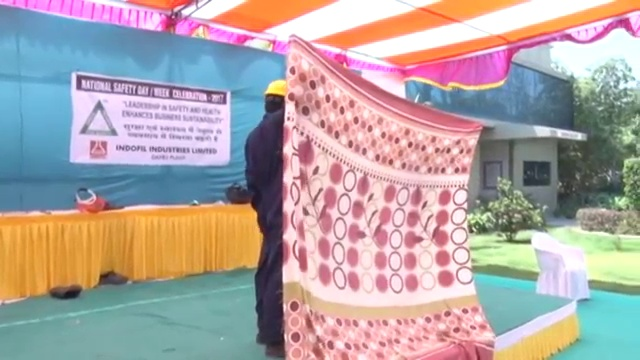helmet: (262, 78, 288, 99)
helmet_on: (260, 78, 287, 116)
person: (243, 78, 292, 360)
